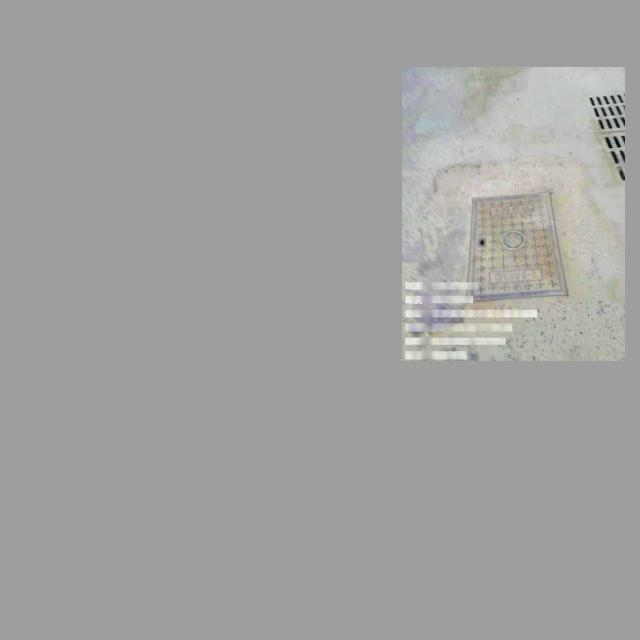good: (457, 191, 567, 300)
